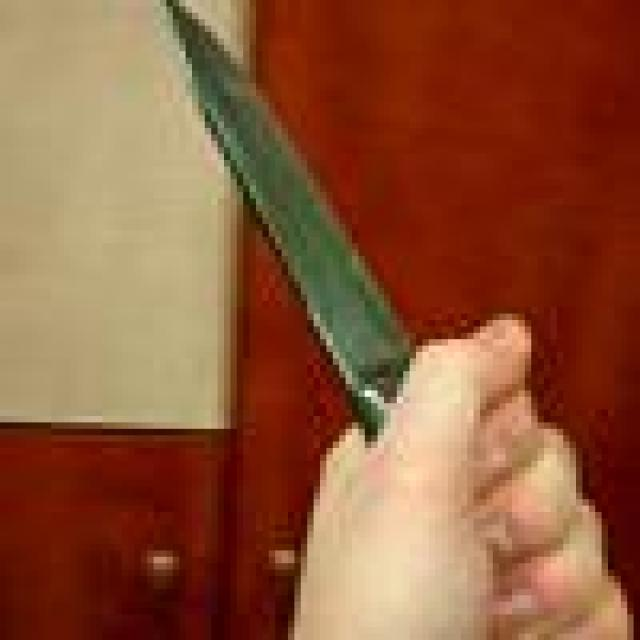knife: (170, 1, 396, 412)
